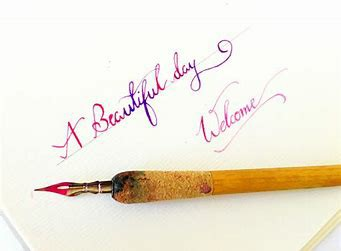pen: (18, 161, 341, 205)
